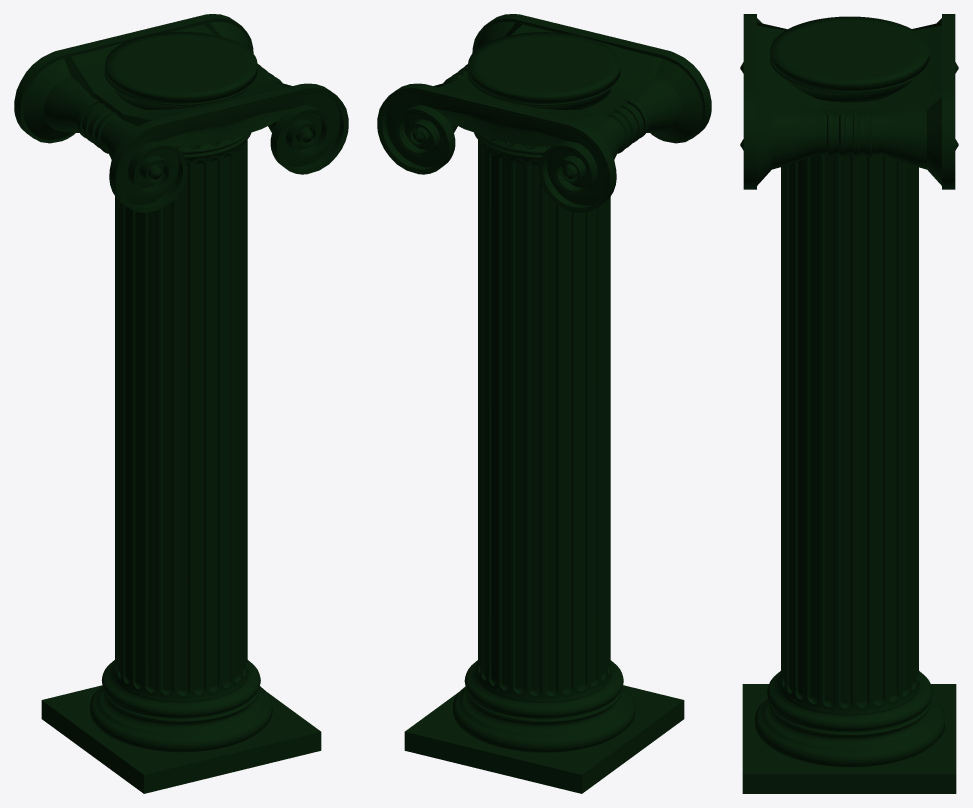
File: column.glb
3 renders of one model, left to right at view 1: azimuth 30°, elevation 25°; view 2: azimuth 150°, elevation 25°; view 3: azimuth 270°, elevation 25°, orthographic. The views are drawn at different scales.
Visible parts, largest first — view 1: Volute_Circle.014; view 2: Volute_Circle.014; view 3: Volute_Circle.014.
Part boxes in pixels (left/top/right/bottom): Volute_Circle.014: left=14, top=14, right=348, bottom=793; Volute_Circle.014: left=377, top=14, right=711, bottom=793; Volute_Circle.014: left=740, top=14, right=958, bottom=793.
Bounding box in the file's own units: 4.84 × 13.31 × 3.76.
